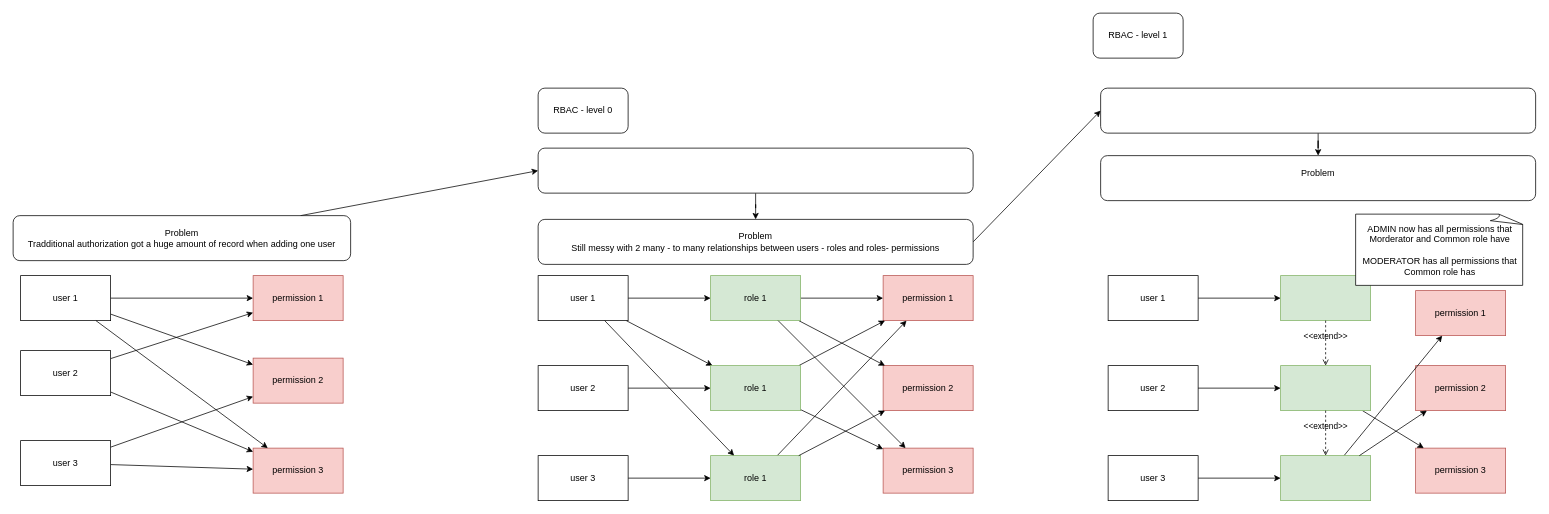
Image size: 1549x514. Some labels were removed from this diagram. Each missing label, with the box of its shape:
Resolve assign role to user: (537, 147, 973, 193)
Resolve Use inheritence mindset: (1100, 87, 1536, 133)
role ADMIN: (1280, 275, 1371, 321)
role COMMON: (1280, 455, 1371, 501)
role MORDERATOR: (1280, 365, 1371, 411)
